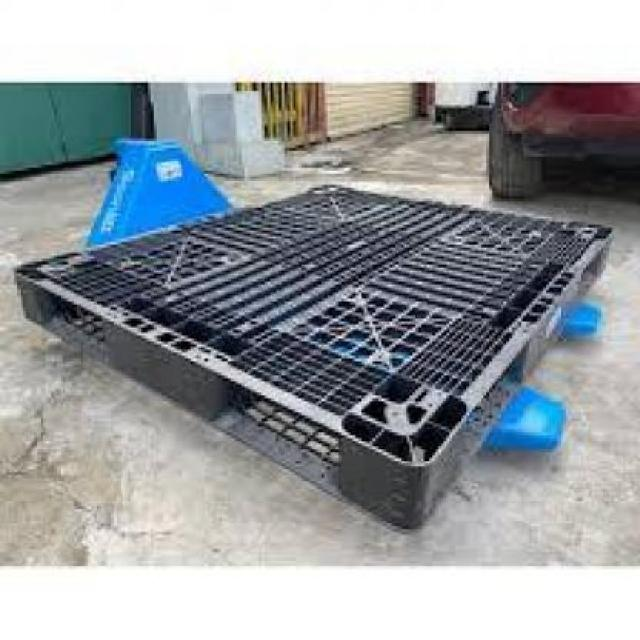pallet: (4, 181, 623, 535)
